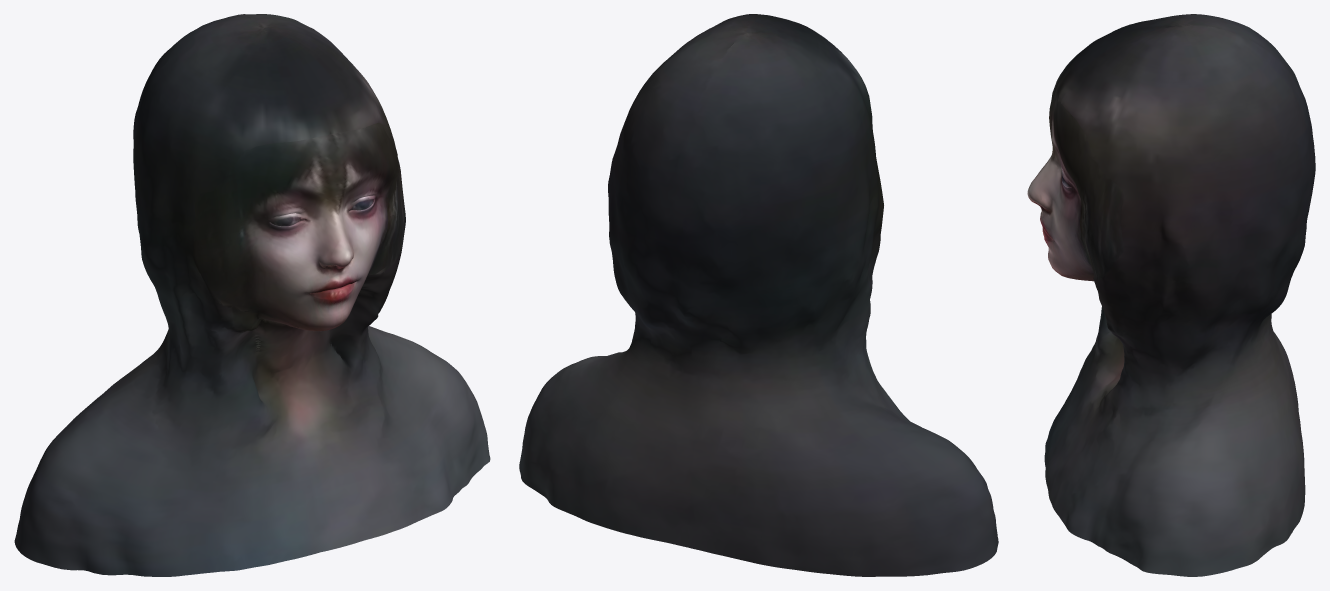
File: 真人头像_女_0328_opt.glb
The picture shows the model from 3 angles, left to right: view 1: azimuth 30°, elevation 25°; view 2: azimuth 150°, elevation 25°; view 3: azimuth 270°, elevation 25°; orthographic projection. The views are drawn at different scales.
Visible parts, largest first — view 1: material_0; view 2: material_0; view 3: material_0.
Boxes of the visible parts, x1,y1,x2,y2 form: material_0: (14, 14, 490, 576); material_0: (519, 14, 998, 576); material_0: (1027, 14, 1315, 576).
Bounding box in the file's own units: 0.5099 × 0.5 × 0.2895.
1 material, 1 textured.
